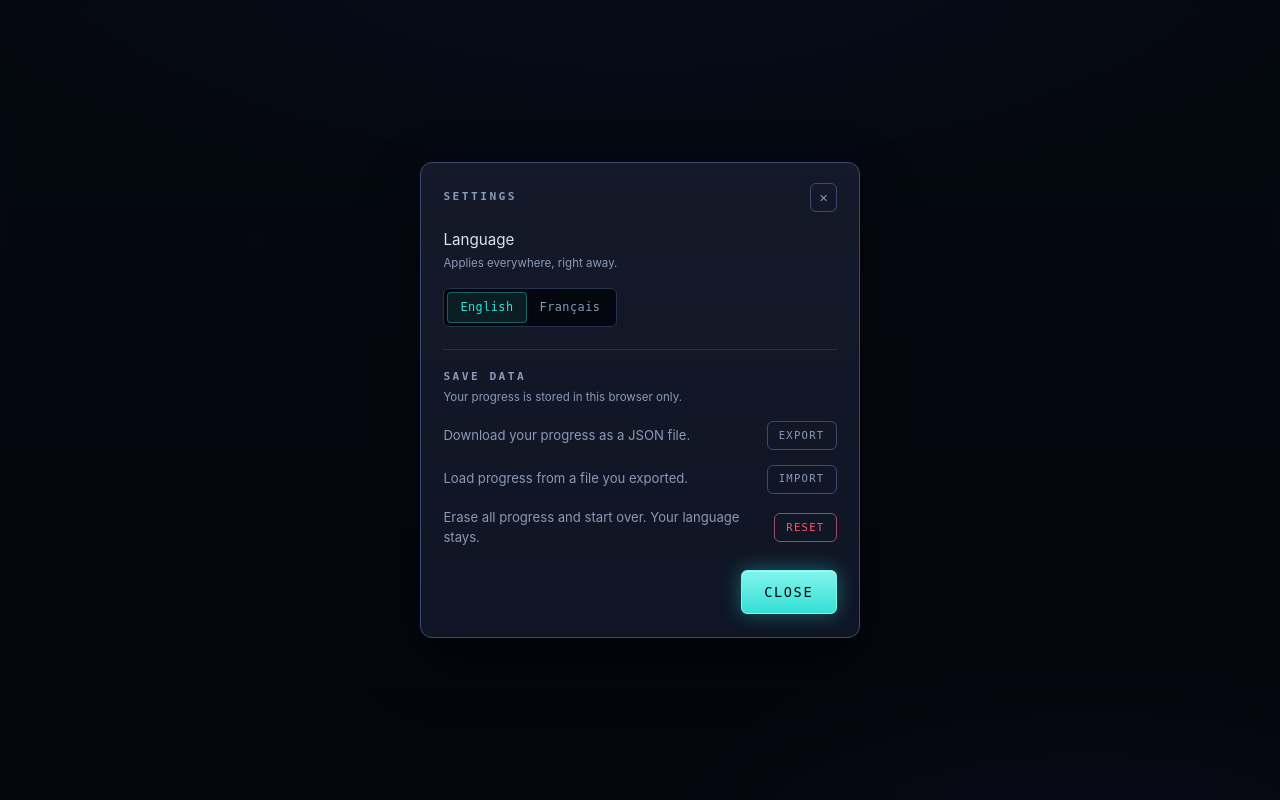
Test case: SettingsPanel — reset › does nothing until the confirmation is accepted
Step 1. Click the button "Reset" → {"x": 805, "y": 528}, box left=774, top=513, right=837, bottom=542
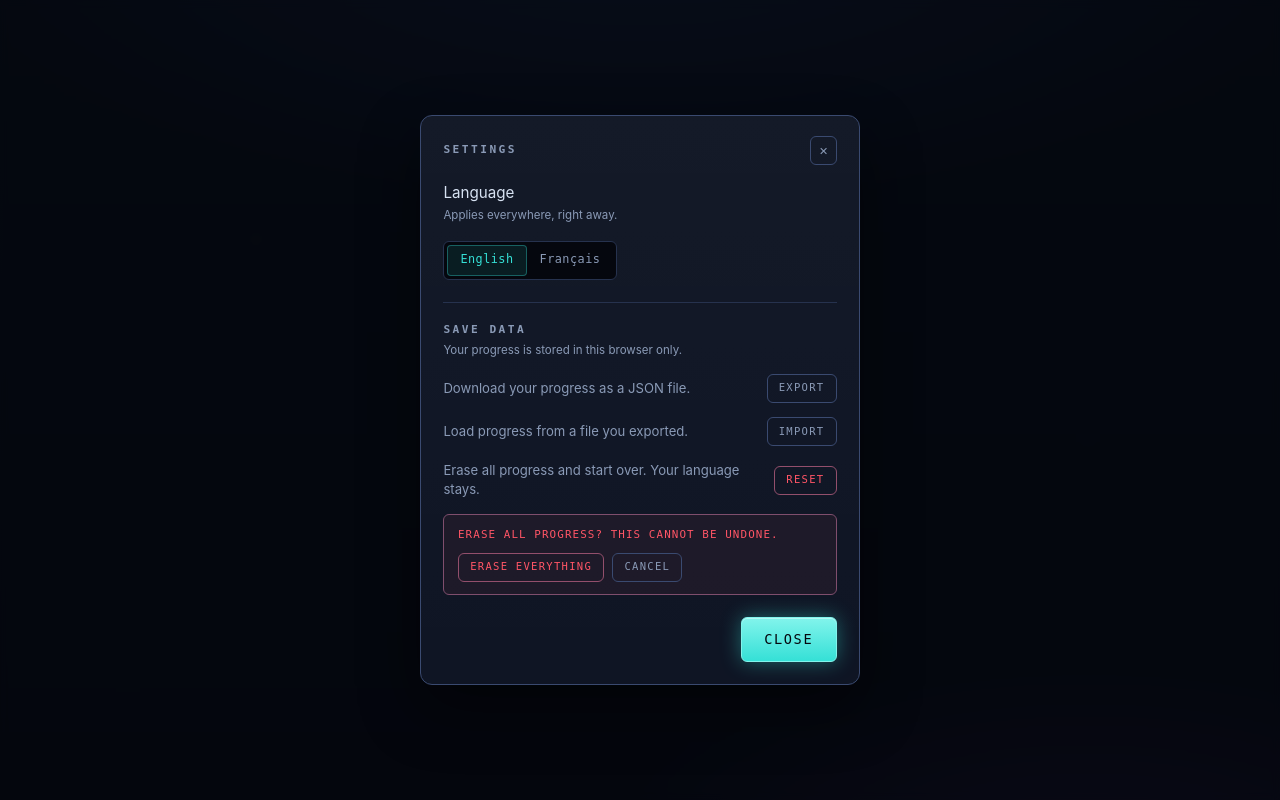
Check: the text "Erase all progress? This cannot be undone." is shown, box left=458, top=528, right=822, bottom=544
Step 2. Click the button "Erase everything" → {"x": 531, "y": 567}, box left=458, top=553, right=604, bottom=582
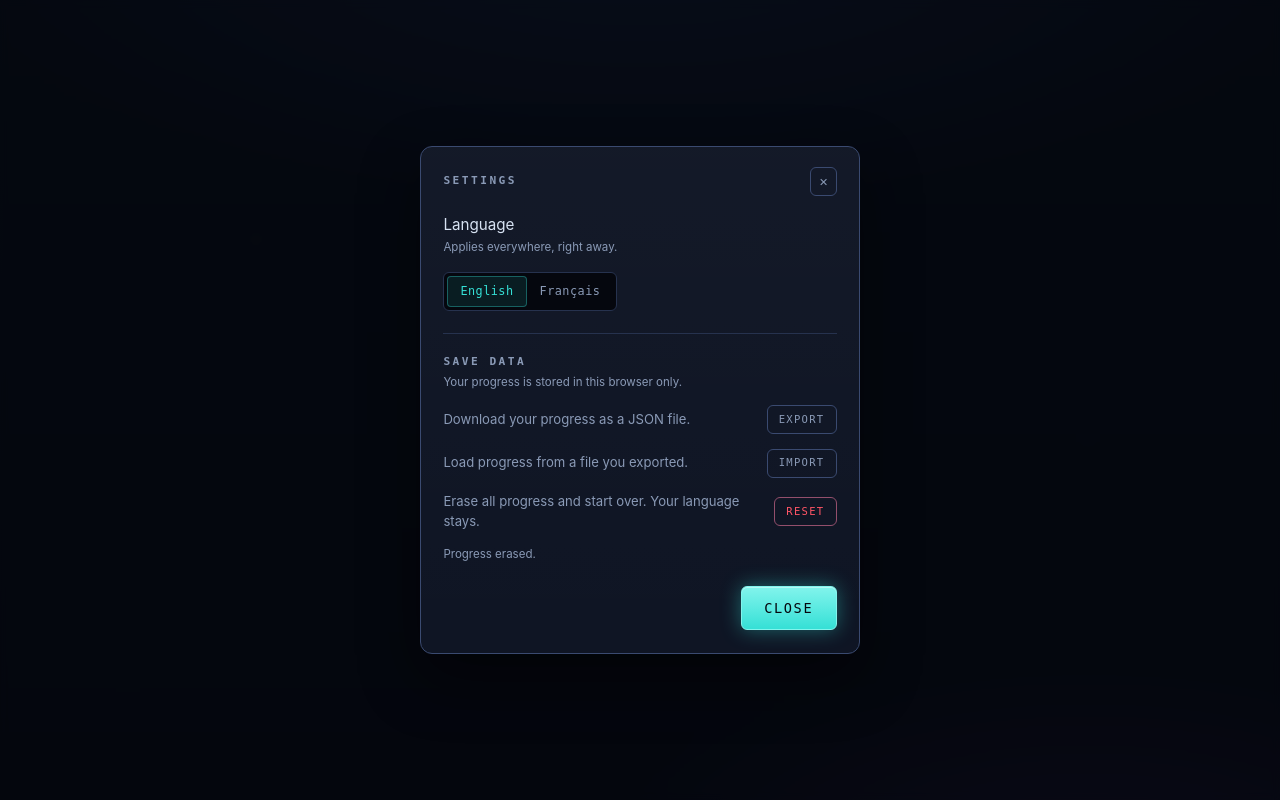
Check: the message reads "Progress erased.", box left=443, top=547, right=536, bottom=561
